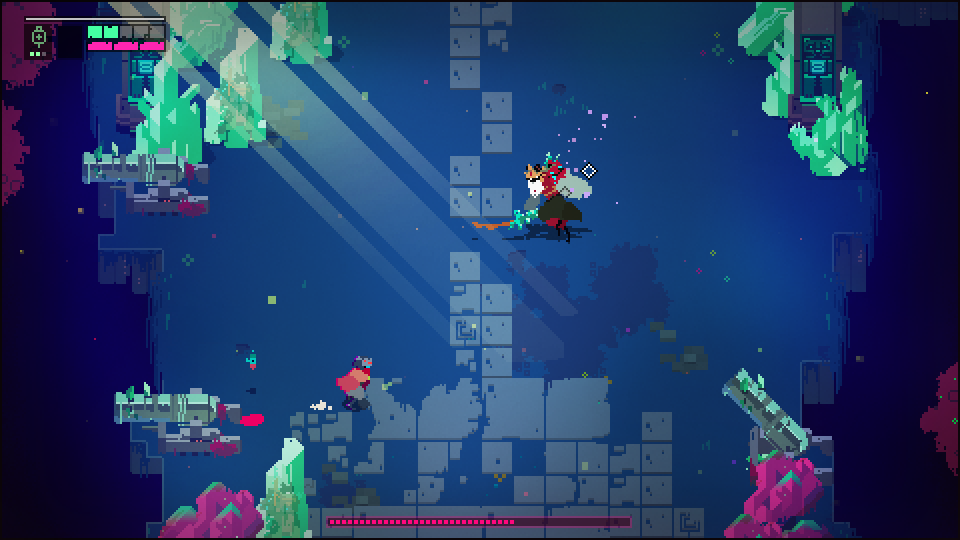hanged_man: (507, 147, 596, 241)
player: (332, 357, 372, 407)
